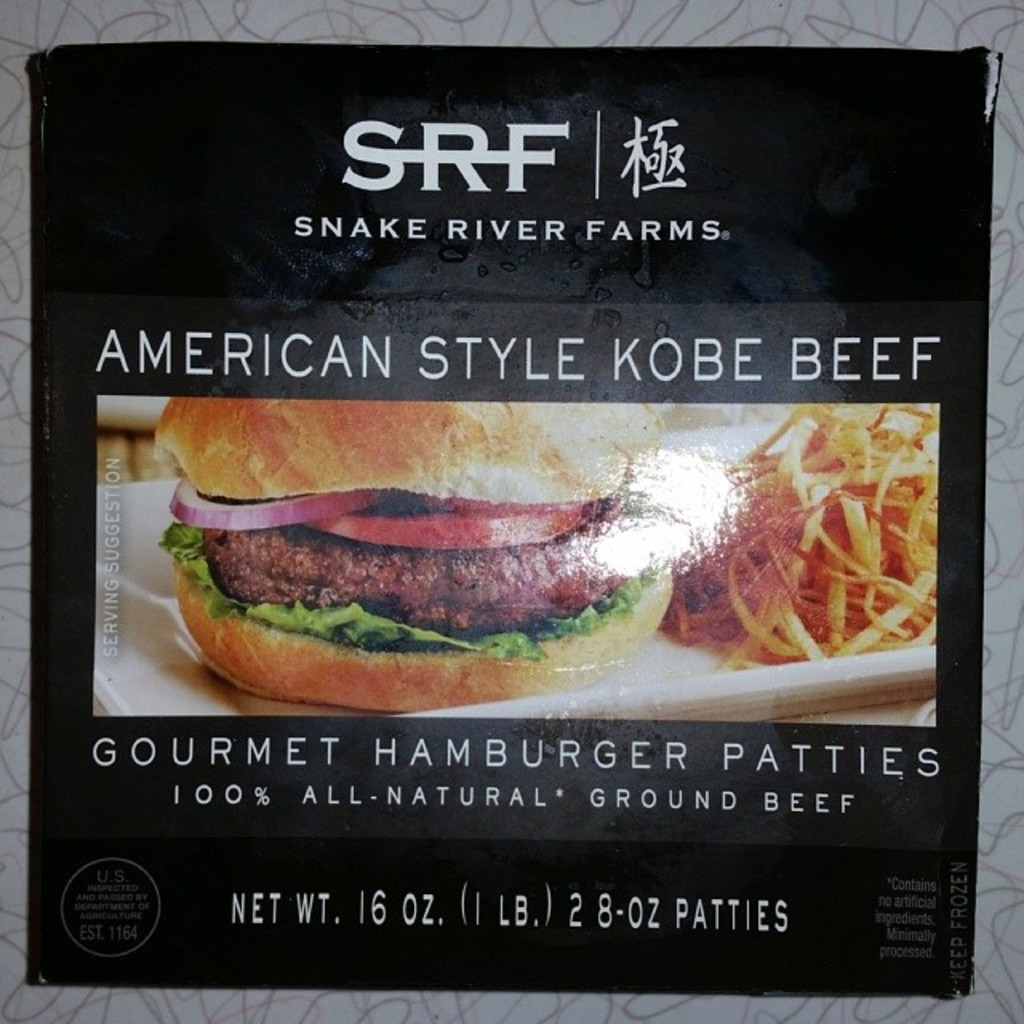Hamburger: (152, 396, 670, 716)
